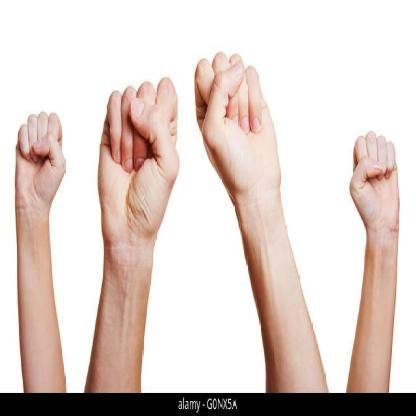fist: (184, 38, 291, 192), (95, 68, 184, 248), (344, 124, 408, 239), (9, 108, 71, 221)
